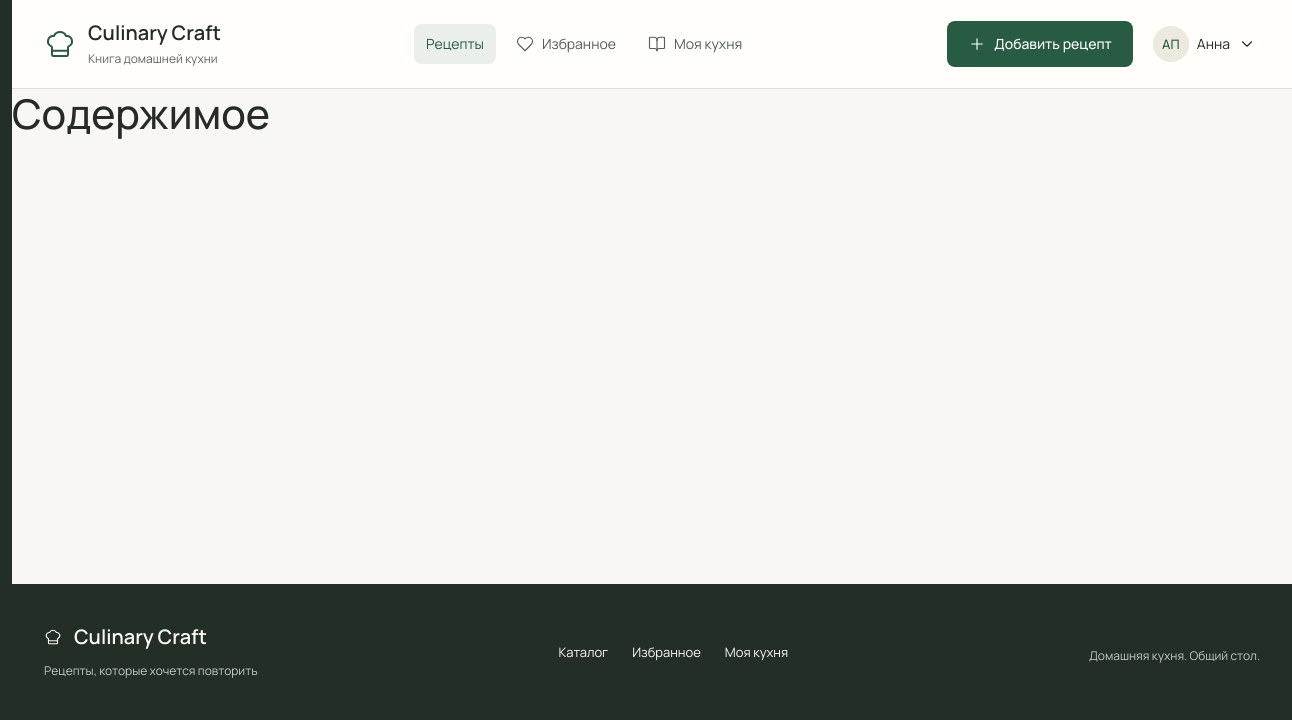
закрывает меню снаружи и выполняет logout
Step 1. Click the button with aria-label "Меню аккаунта" → point(1204, 44), box [1149,22,1260,66]
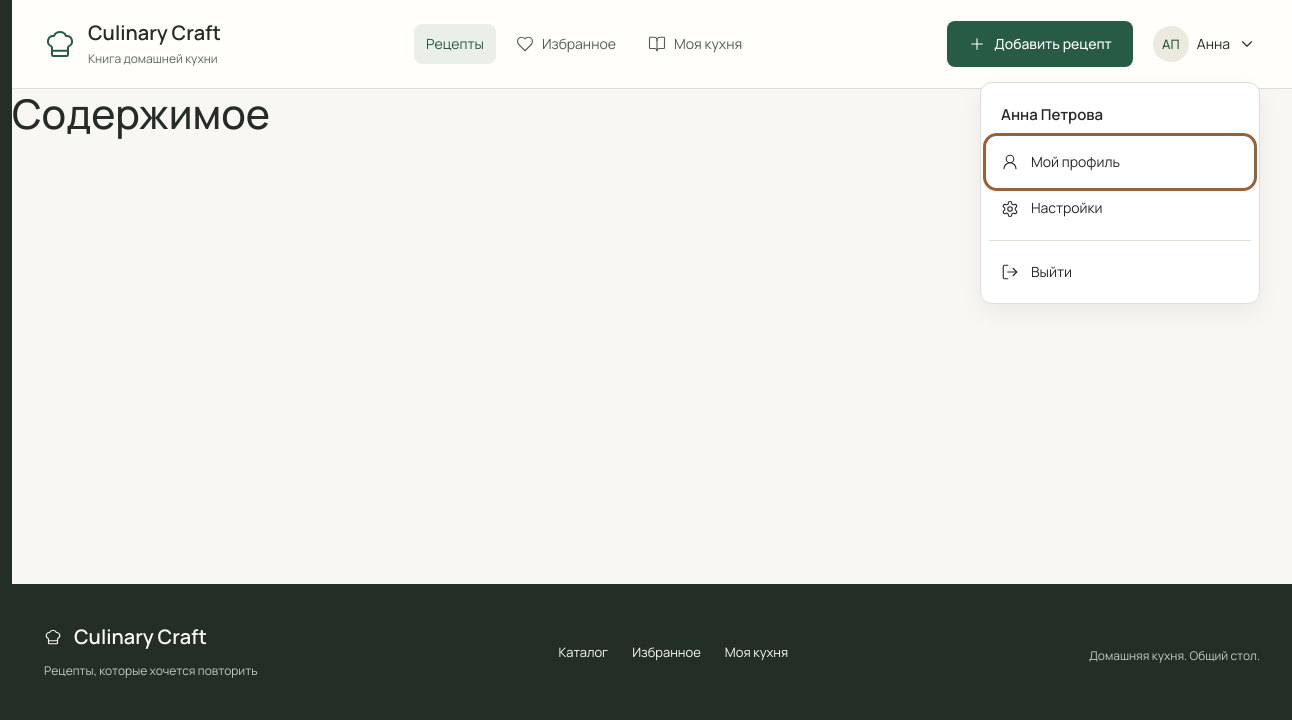
Step 2. Press the mouse on the heading "Содержимое" → point(141, 113), box [12,85,270,141]
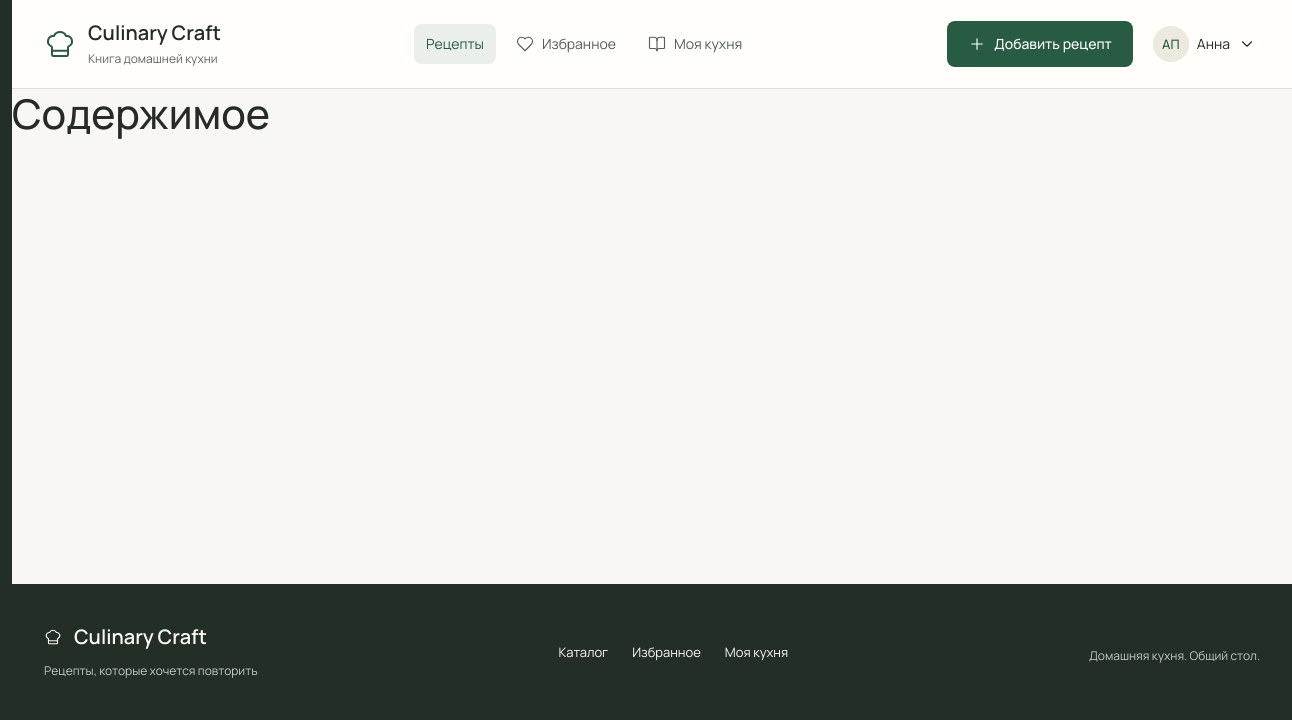
Now the menu is gone
Step 3. Click the button with aria-label "Меню аккаунта" → point(1204, 44), box [1149,22,1260,66]
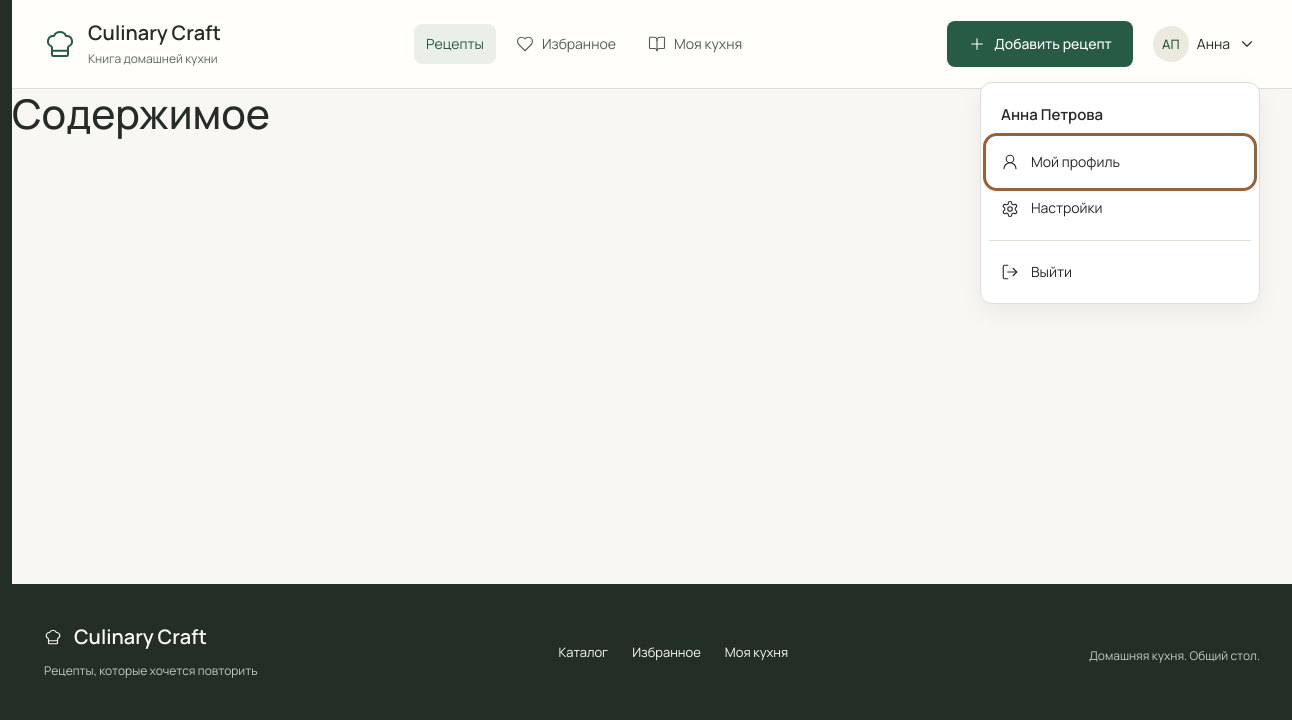
Step 4. Click the menu item "Выйти" → point(1052, 271), box [989,249,1251,295]
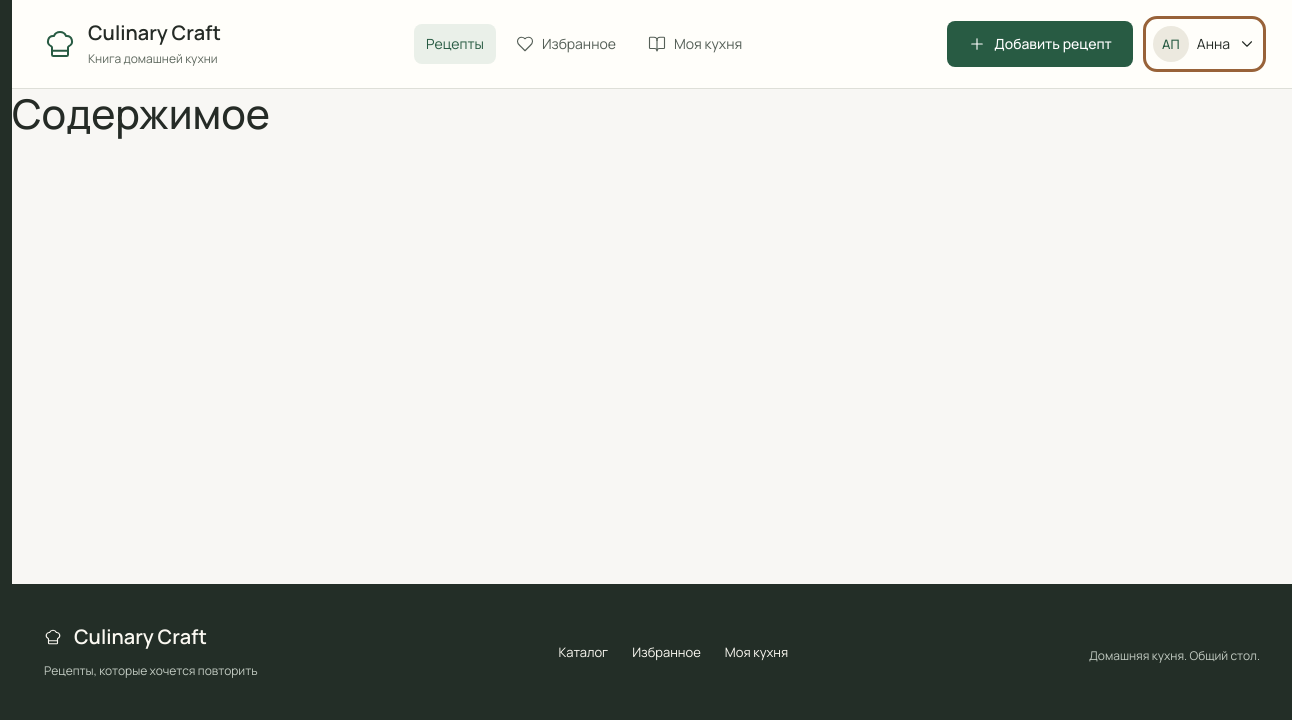
Now the menu is gone
